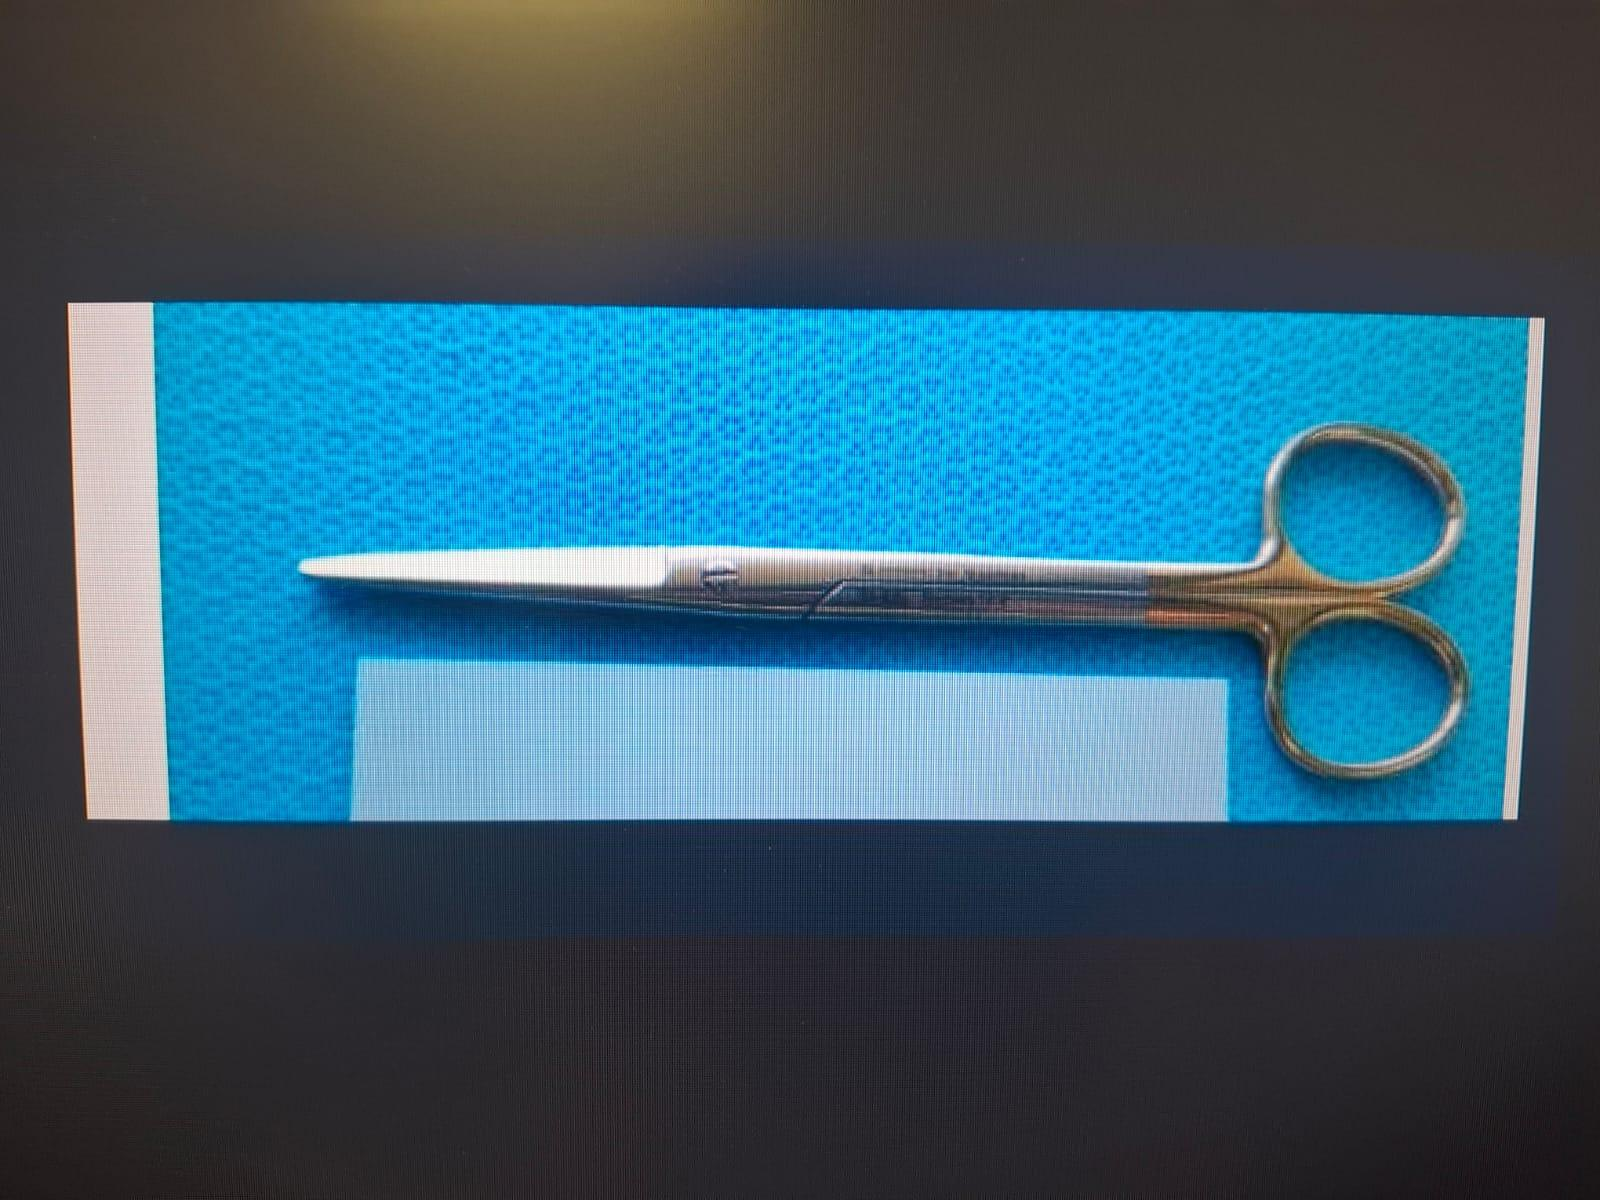Straight Mayo: (288, 400, 1476, 786)
